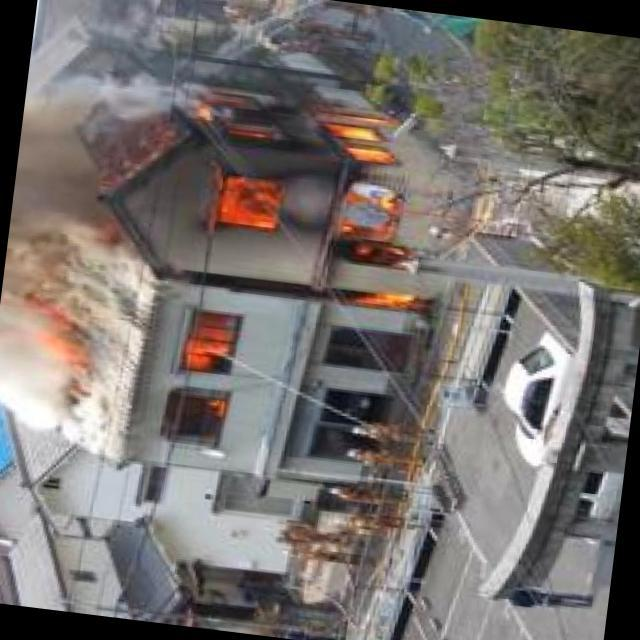Fire: (156, 71, 469, 326), (14, 255, 107, 409), (174, 311, 247, 457)
